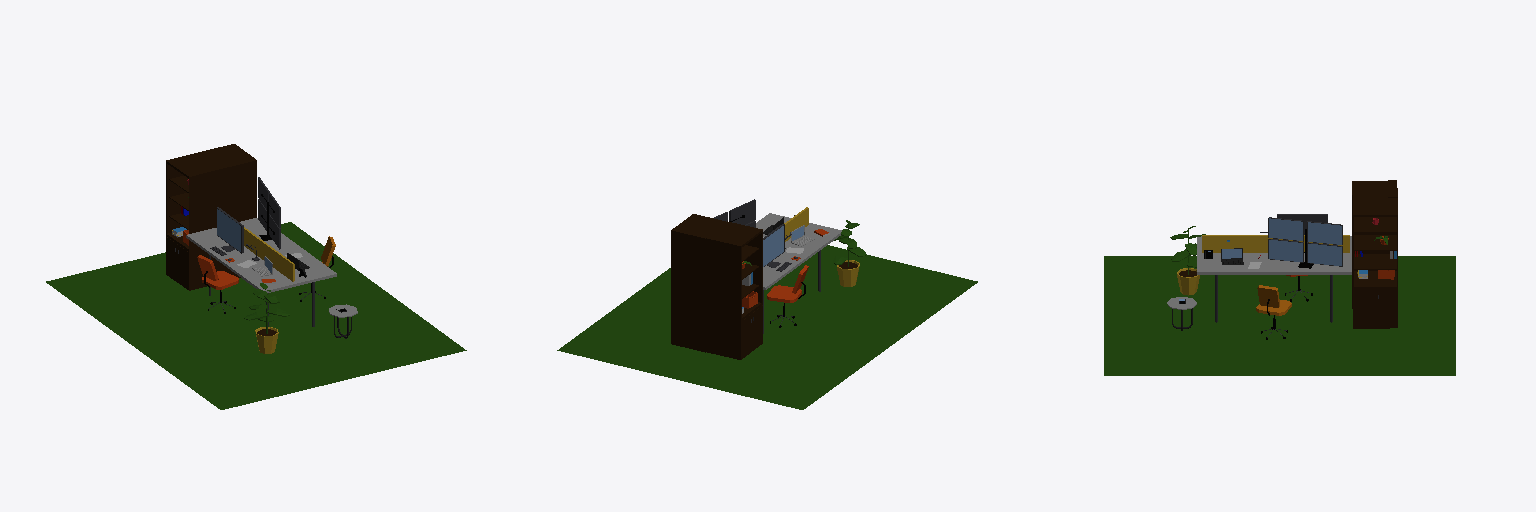
The model's file is Desk_new.obj.
3 views of the same model, side by side, from view 1: azimuth 30°, elevation 25°; view 2: azimuth 150°, elevation 25°; view 3: azimuth 270°, elevation 25° (orthographic).
Visible parts, largest first — view 1: Plane, Cupboard.001_Plane.939, Table_Plane.035, Cupboard.001_Plane.001, Monitor_Set_Plane.1204, Monitor_Big.001_Plane.1200, Chair_Plane.925, Plant.002_Plane.869; view 2: Plane, Cupboard.001_Plane.939, Cupboard.001_Plane.001, Table_Plane.035, Chair_Plane.925, Monitor_Big.001_Plane.1200, Monitor_Set_Plane.1204, Plant.002_Plane.869; view 3: Plane, Cupboard.001_Plane.001, Table_Plane.035, Monitor_Set_Plane.1204, Cupboard.001_Plane.939, Chair.001_Plane.899.
Part boxes in pixels (x1,y1,x2,y2): Plane: (46, 222, 466, 409); Cupboard.001_Plane.939: (166, 152, 223, 290); Table_Plane.035: (186, 218, 336, 326); Cupboard.001_Plane.001: (201, 144, 256, 277); Monitor_Set_Plane.1204: (258, 177, 280, 249); Monitor_Big.001_Plane.1200: (217, 207, 243, 253); Chair_Plane.925: (197, 255, 238, 313); Plant.002_Plane.869: (244, 283, 289, 333); Plane: (557, 245, 977, 409); Cupboard.001_Plane.939: (706, 221, 762, 359); Cupboard.001_Plane.001: (671, 214, 725, 352); Table_Plane.035: (756, 207, 841, 333); Chair_Plane.925: (767, 265, 808, 327); Monitor_Big.001_Plane.1200: (763, 224, 784, 267); Monitor_Set_Plane.1204: (714, 199, 755, 227); Plant.002_Plane.869: (833, 220, 865, 266); Plane: (1104, 256, 1455, 375); Cupboard.001_Plane.001: (1353, 198, 1397, 328); Table_Plane.035: (1197, 235, 1351, 322); Monitor_Set_Plane.1204: (1268, 217, 1342, 268); Cupboard.001_Plane.939: (1352, 180, 1397, 308); Chair.001_Plane.899: (1256, 285, 1291, 339).
Bounding box in the file's own units: 22.6 × 10.58 × 28.